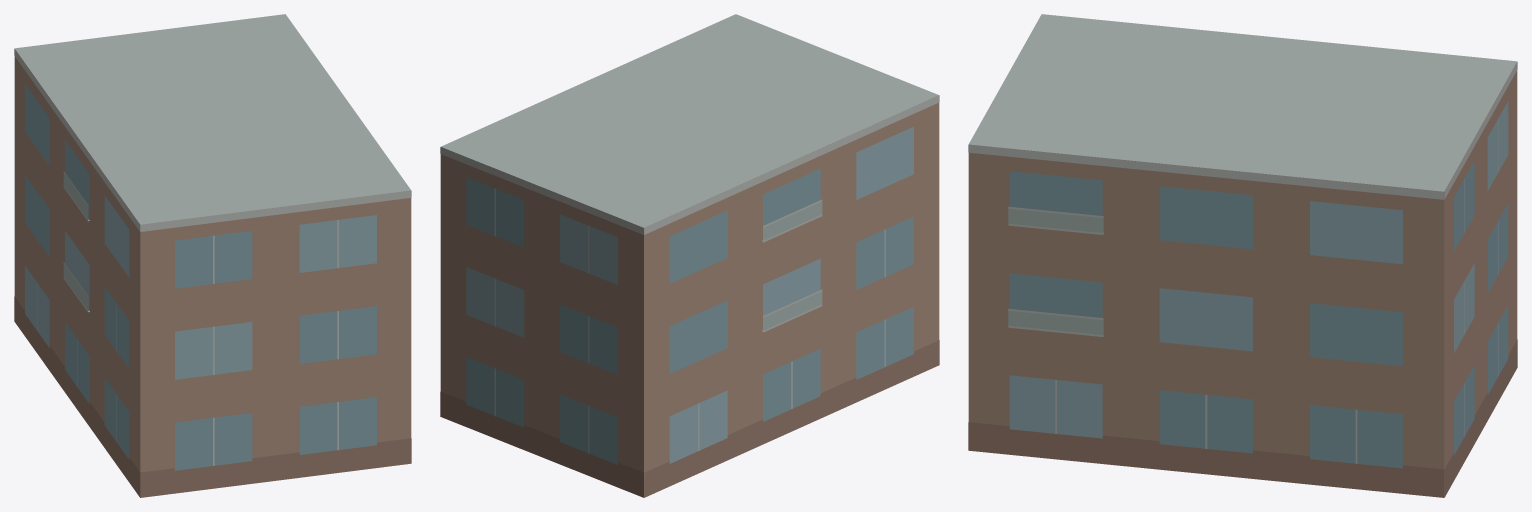
File: survey-upis-32953620.glb
3 renders of one model, left to right at view 1: azimuth 30°, elevation 25°; view 2: azimuth 150°, elevation 25°; view 3: azimuth 270°, elevation 25°, orthographic. The views are drawn at different scales.
Parts seen in each view (by area): view 1: survey-upis-32953620.tmp; view 2: survey-upis-32953620.tmp; view 3: survey-upis-32953620.tmp.
Boxes of the visible parts, x1=… form: survey-upis-32953620.tmp: x1=14, y1=14, x2=411, y2=497; survey-upis-32953620.tmp: x1=440, y1=14, x2=939, y2=497; survey-upis-32953620.tmp: x1=968, y1=14, x2=1517, y2=497.
Size of the model in its own units: 11.4 by 9.15 by 14.88.
